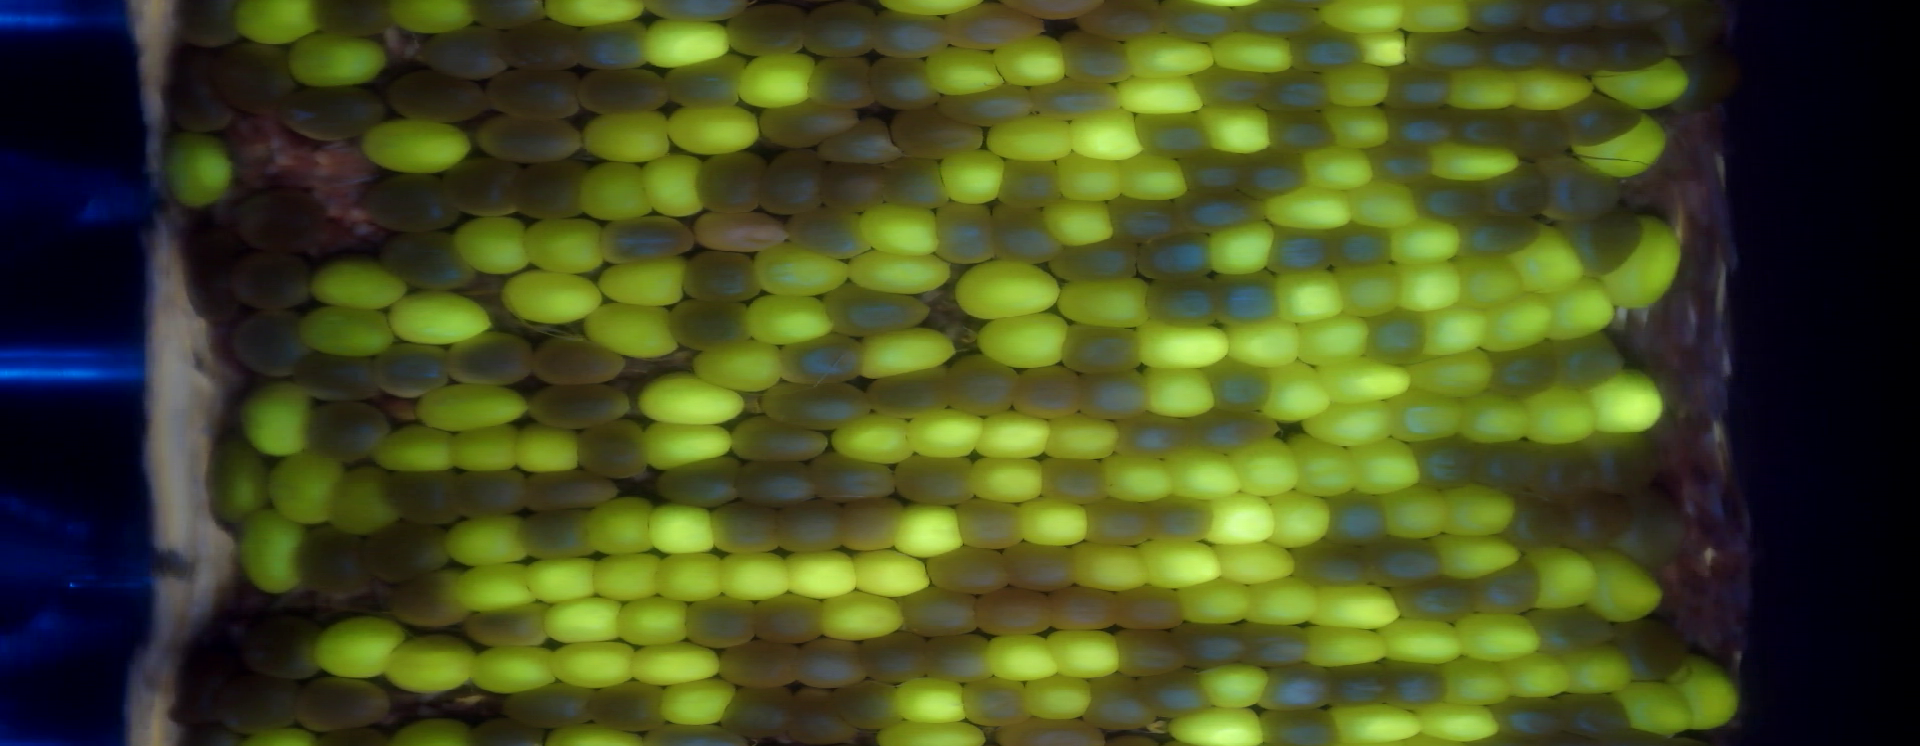fluorescent: (1597, 211, 1690, 318), (951, 255, 1069, 328), (231, 375, 320, 468), (351, 114, 482, 176), (156, 122, 244, 214), (309, 611, 409, 691), (1569, 111, 1676, 185), (282, 24, 393, 96), (410, 376, 536, 439), (383, 282, 500, 349), (302, 247, 419, 314), (230, 503, 309, 601), (1578, 545, 1670, 628), (377, 627, 482, 699), (1583, 51, 1700, 116), (849, 321, 962, 387), (517, 211, 617, 284), (201, 431, 271, 535), (747, 238, 858, 303), (632, 369, 752, 429), (264, 443, 342, 537), (294, 298, 404, 363), (496, 265, 609, 327), (1522, 539, 1607, 622), (1662, 649, 1744, 734), (633, 11, 740, 76), (576, 298, 682, 363), (1502, 219, 1592, 296), (973, 307, 1073, 376), (1581, 365, 1668, 442), (1283, 428, 1371, 503), (1131, 311, 1236, 375), (659, 102, 774, 159), (853, 196, 951, 263), (569, 152, 659, 225), (727, 47, 823, 115), (321, 464, 408, 539), (1610, 676, 1704, 745), (1513, 379, 1604, 450), (977, 109, 1082, 169), (687, 336, 793, 394), (842, 245, 961, 298), (637, 414, 741, 474), (576, 107, 677, 167), (1264, 265, 1356, 331), (593, 256, 700, 312), (1300, 578, 1408, 635), (449, 211, 538, 279), (1052, 274, 1158, 331), (462, 642, 566, 699), (1449, 244, 1534, 314), (1436, 478, 1528, 543), (1501, 58, 1600, 118), (1224, 432, 1308, 503), (738, 288, 839, 347), (579, 492, 664, 562), (1251, 359, 1337, 428), (1060, 537, 1158, 597), (1449, 606, 1544, 668), (440, 510, 533, 572), (367, 416, 464, 477), (970, 405, 1067, 465), (1403, 344, 1498, 405), (1556, 636, 1642, 703), (633, 147, 708, 224), (1534, 273, 1621, 339), (1297, 399, 1403, 453), (448, 559, 544, 619), (1096, 450, 1184, 514), (816, 586, 912, 644), (1427, 528, 1527, 584), (534, 592, 632, 649), (441, 418, 529, 481), (1138, 359, 1226, 423), (1131, 535, 1233, 590), (542, 635, 642, 691), (653, 671, 746, 731), (931, 143, 1011, 212), (1160, 442, 1248, 505), (626, 638, 727, 692), (1063, 103, 1149, 167), (922, 43, 1013, 103), (1471, 296, 1561, 356), (1109, 69, 1212, 121), (1293, 619, 1393, 673), (827, 412, 922, 468), (1331, 258, 1409, 327), (1453, 388, 1539, 451), (849, 543, 939, 601), (640, 496, 722, 561), (1190, 96, 1277, 157), (1041, 624, 1128, 685), (1373, 612, 1467, 669), (900, 405, 992, 463), (890, 497, 970, 563), (776, 545, 866, 604), (1010, 491, 1096, 552), (1316, 355, 1416, 408), (1341, 435, 1428, 495), (973, 626, 1064, 684), (228, 1, 324, 55), (1261, 183, 1358, 236), (1233, 575, 1330, 628), (1373, 481, 1456, 544), (1204, 216, 1281, 283), (1011, 666, 1100, 725), (1439, 650, 1527, 709), (1409, 696, 1512, 746), (1423, 137, 1526, 187), (1171, 573, 1266, 627), (1387, 254, 1469, 316), (1199, 491, 1289, 548), (1120, 31, 1221, 81), (713, 545, 798, 604), (961, 452, 1051, 508), (1416, 298, 1493, 363), (1226, 312, 1309, 372), (1382, 390, 1471, 446), (1494, 648, 1580, 706), (1324, 697, 1427, 745), (1316, 56, 1400, 115), (992, 31, 1071, 92), (1207, 26, 1304, 76), (1207, 538, 1304, 588), (1042, 408, 1124, 467), (1033, 194, 1120, 249), (1267, 486, 1340, 552), (648, 548, 729, 606), (1161, 703, 1271, 746), (518, 552, 607, 605), (1440, 61, 1527, 115), (1289, 312, 1374, 367), (587, 546, 667, 604), (1389, 211, 1466, 271), (891, 673, 976, 726), (509, 423, 587, 481), (611, 590, 693, 646), (1120, 146, 1194, 206), (1198, 659, 1280, 712), (1057, 148, 1129, 207), (386, 1, 484, 44), (1318, 103, 1396, 156), (1303, 142, 1381, 195), (1348, 176, 1423, 232), (1311, 1, 1411, 42), (869, 714, 993, 746), (531, 1, 650, 34), (1391, 1, 1477, 39), (1349, 24, 1416, 71)
nonfluorescent: (171, 213, 250, 334), (163, 622, 241, 733), (373, 62, 500, 129), (373, 223, 481, 299), (212, 36, 302, 125), (271, 83, 397, 147), (228, 184, 340, 254), (158, 44, 241, 138), (1608, 489, 1698, 575), (817, 279, 940, 342), (354, 514, 457, 588), (287, 673, 400, 737), (759, 375, 883, 434), (348, 169, 462, 233), (290, 519, 377, 603), (1559, 198, 1646, 282), (441, 326, 546, 394), (520, 377, 640, 437), (524, 331, 637, 394), (223, 307, 320, 381), (1533, 147, 1624, 225), (752, 98, 867, 159), (1610, 612, 1700, 691), (468, 109, 584, 169), (860, 358, 962, 425), (479, 62, 584, 125), (230, 609, 323, 679), (1540, 327, 1633, 397), (1573, 424, 1667, 494), (302, 394, 397, 463), (503, 154, 593, 227), (1523, 603, 1626, 665), (939, 348, 1026, 421), (1462, 552, 1550, 625), (888, 100, 989, 163), (1558, 85, 1648, 154), (986, 197, 1069, 273), (224, 247, 320, 314), (770, 326, 869, 390), (591, 211, 700, 268), (787, 202, 880, 269), (381, 563, 469, 635), (662, 292, 757, 358), (377, 463, 468, 532), (710, 677, 806, 742), (418, 23, 517, 86), (1453, 203, 1550, 267), (291, 345, 392, 407), (1560, 486, 1642, 561), (676, 244, 770, 309), (940, 2, 1051, 58), (574, 59, 677, 118), (691, 146, 771, 220), (437, 154, 527, 222), (571, 414, 656, 484), (726, 412, 842, 463), (1382, 570, 1484, 628), (1053, 316, 1149, 379), (926, 196, 1004, 272), (493, 15, 587, 78), (882, 452, 982, 511), (1044, 229, 1142, 289), (1109, 405, 1207, 465), (562, 13, 658, 75), (460, 598, 560, 657), (1484, 334, 1566, 405), (214, 673, 304, 737), (371, 336, 453, 405), (720, 1, 813, 62), (518, 503, 607, 567), (753, 142, 829, 217), (793, 1, 884, 64), (1286, 535, 1380, 595), (1549, 684, 1641, 745), (514, 464, 626, 514), (1127, 107, 1220, 167), (1198, 405, 1291, 465), (719, 635, 812, 695), (1406, 167, 1496, 228), (691, 205, 793, 258), (446, 462, 533, 526), (866, 7, 958, 67), (654, 453, 746, 513), (1251, 659, 1347, 717), (827, 673, 911, 737), (664, 49, 749, 113), (1139, 269, 1226, 332), (1007, 359, 1089, 425), (951, 491, 1033, 557), (498, 682, 601, 735), (703, 497, 786, 562), (1531, 437, 1607, 508), (989, 153, 1074, 217), (784, 682, 868, 746), (1134, 225, 1220, 288), (587, 676, 673, 737), (814, 115, 909, 171), (808, 451, 902, 507), (1084, 492, 1167, 556), (1378, 54, 1456, 121), (1479, 158, 1558, 225), (729, 458, 827, 512), (801, 47, 880, 113), (1209, 265, 1288, 331), (1108, 619, 1198, 677), (918, 624, 999, 688), (1469, 435, 1551, 499), (891, 583, 986, 638), (1229, 146, 1318, 205), (1100, 189, 1188, 247), (1500, 489, 1578, 555), (1356, 533, 1447, 589), (1080, 669, 1160, 734), (834, 492, 913, 557), (1027, 73, 1130, 124), (1073, 365, 1158, 425), (1029, 450, 1114, 510), (1360, 303, 1431, 375), (969, 583, 1059, 639), (876, 156, 959, 217), (853, 624, 933, 687), (1254, 62, 1340, 121), (1406, 431, 1488, 492), (682, 590, 759, 655), (1043, 578, 1127, 638), (1400, 23, 1494, 76), (920, 543, 1014, 595), (751, 586, 831, 647), (1288, 21, 1374, 78), (1498, 102, 1573, 167), (1176, 186, 1273, 236), (771, 495, 849, 559), (956, 673, 1040, 731), (1488, 691, 1580, 744), (1188, 62, 1273, 119), (1056, 27, 1138, 86), (813, 156, 891, 217), (1382, 649, 1457, 713), (1260, 220, 1341, 279), (1319, 218, 1400, 277), (1139, 664, 1220, 723), (999, 539, 1081, 597), (1068, 1, 1173, 45), (866, 51, 943, 111), (1262, 103, 1341, 162), (1201, 355, 1280, 414), (1321, 488, 1393, 551), (1657, 1, 1731, 62), (168, 1, 244, 61), (1171, 616, 1251, 673), (940, 83, 1041, 129), (1247, 702, 1349, 746), (791, 637, 873, 692), (1592, 22, 1678, 75), (1477, 24, 1561, 77), (1228, 1, 1326, 47), (1378, 103, 1460, 157), (1147, 489, 1220, 549), (1359, 135, 1441, 187), (1232, 617, 1316, 668), (304, 1, 399, 45), (1538, 21, 1611, 77), (1107, 586, 1190, 635), (1322, 658, 1401, 709), (991, 713, 1108, 746), (1158, 1, 1249, 44), (462, 1, 552, 43), (1179, 142, 1247, 197), (1447, 102, 1522, 151), (1517, 1, 1608, 40), (633, 1, 749, 31), (1461, 1, 1540, 43), (1586, 1, 1674, 37)
